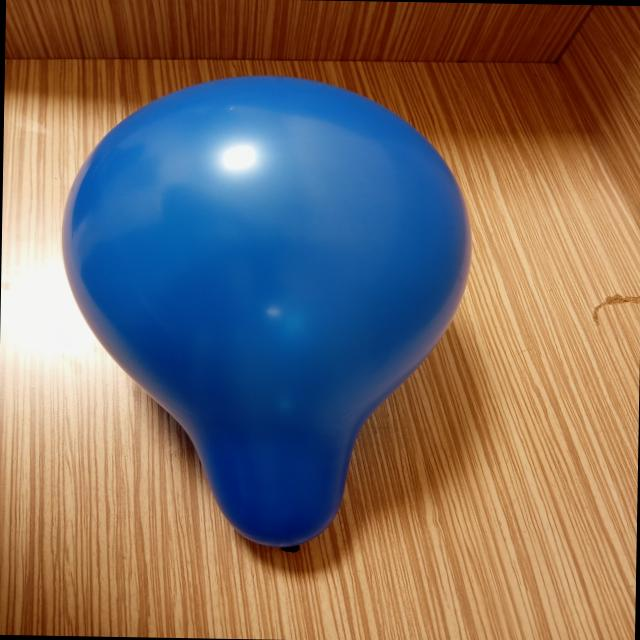balloon: (62, 76, 471, 550)
